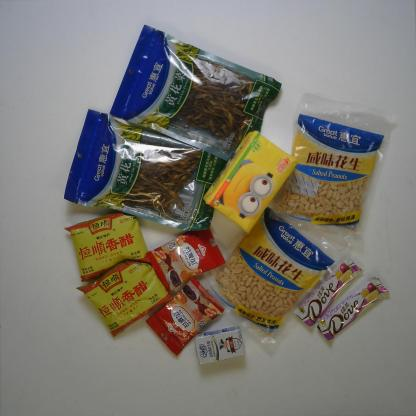Chocolate: (296, 256, 364, 329), (316, 274, 392, 338)
Dried Food: (110, 23, 282, 169), (64, 108, 231, 238)
Dried Fruit: (199, 200, 354, 342), (278, 88, 397, 247)
Instant Drink: (147, 277, 225, 359), (146, 226, 226, 292)
Milk: (192, 324, 245, 366)
Seasoner: (76, 252, 176, 339), (61, 212, 153, 284)
Tissue: (203, 126, 298, 235)
